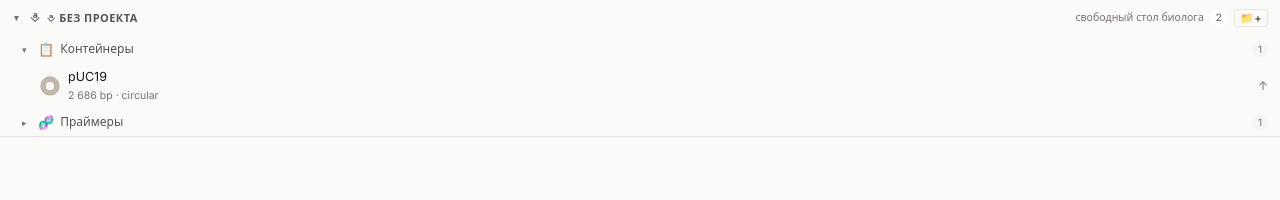
Scenario: K2 — LooseZone (post 09.05.2026 structural sub-folders) › shows Контейнеры/Праймеры sub-folders; containers open by default, primers collapsed
Expected: the button with test id "tree-folder-loose-containers" is shown, [0, 36, 1279, 63]
Expected: the button with test id "tree-item-loose-e1" is shown, [0, 63, 1279, 108]
Click the button with test id "tree-folder-loose-primers". click: [92, 122]
box: [0, 108, 1279, 136]
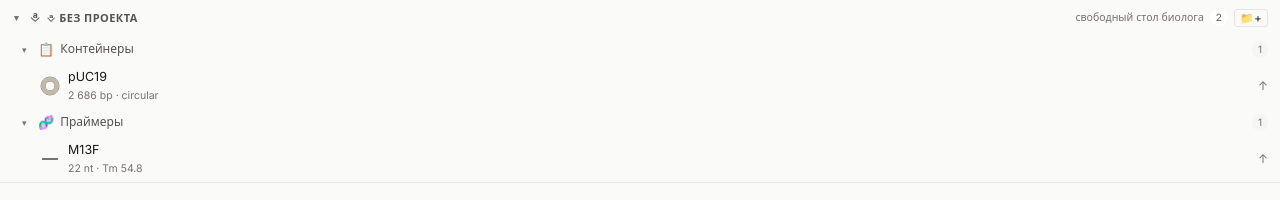
Expected: the button with test id "tree-item-loose-pr1" is shown, [0, 136, 1279, 182]
